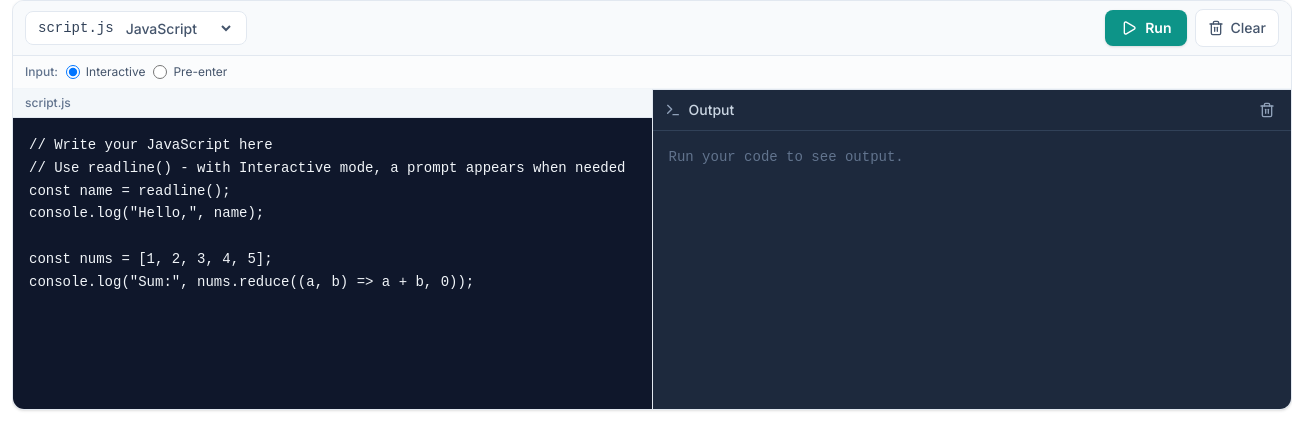
Scenario: CodeBlock › language switching › clears output when switching language
# run code first
Click the button "Run" at (1146, 28), box [1105,10,1188,46]
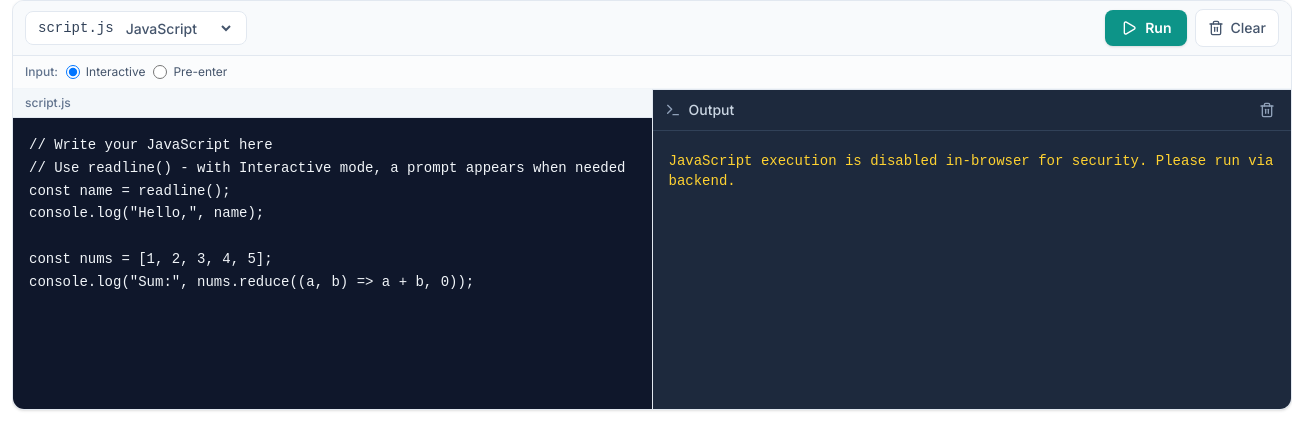
# switch language
Select "Python" in the dropdown named "Language" at (178, 28), box [122,18,234,38]
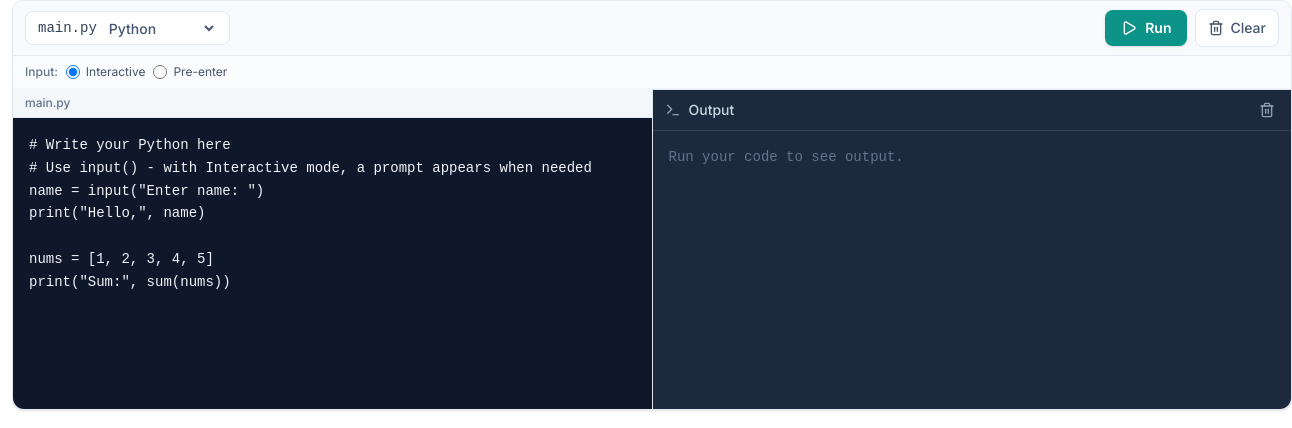
Expected: the text "Run your code to see output." is shown, [668,149,904,165]
